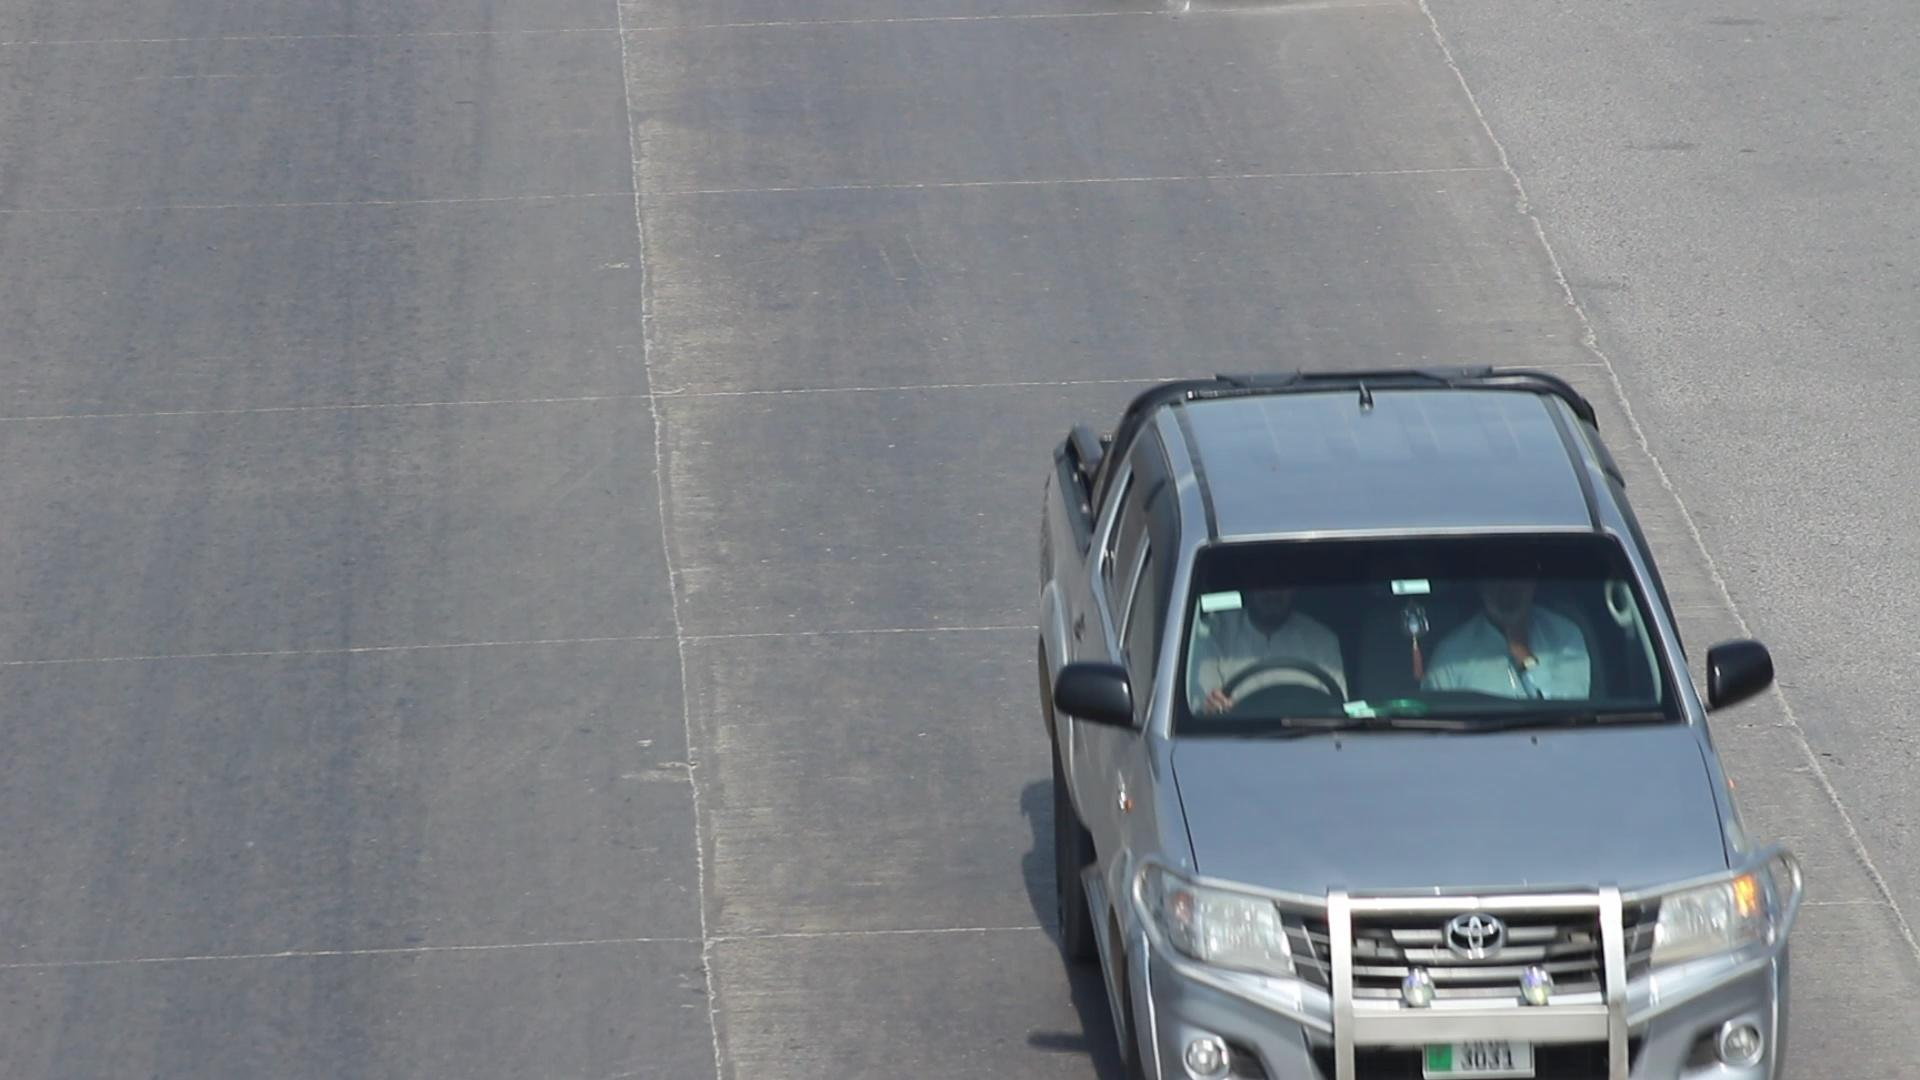windshield: (1154, 513, 1706, 757)
